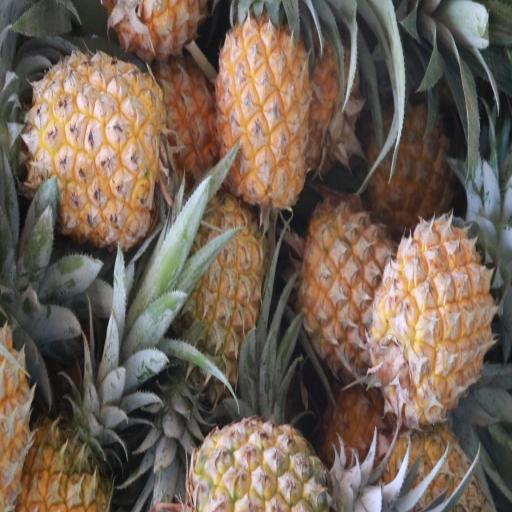------------------------------: (298, 201, 392, 371)
Pineapple - v8 v1: (32, 49, 160, 241), (378, 219, 493, 418), (219, 14, 313, 206), (182, 200, 263, 394), (370, 98, 457, 229)
